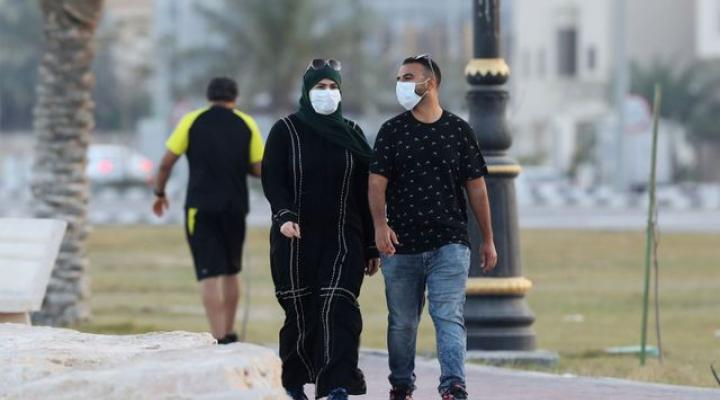Person: (373, 55, 493, 383), (276, 61, 379, 383), (151, 80, 265, 341)
